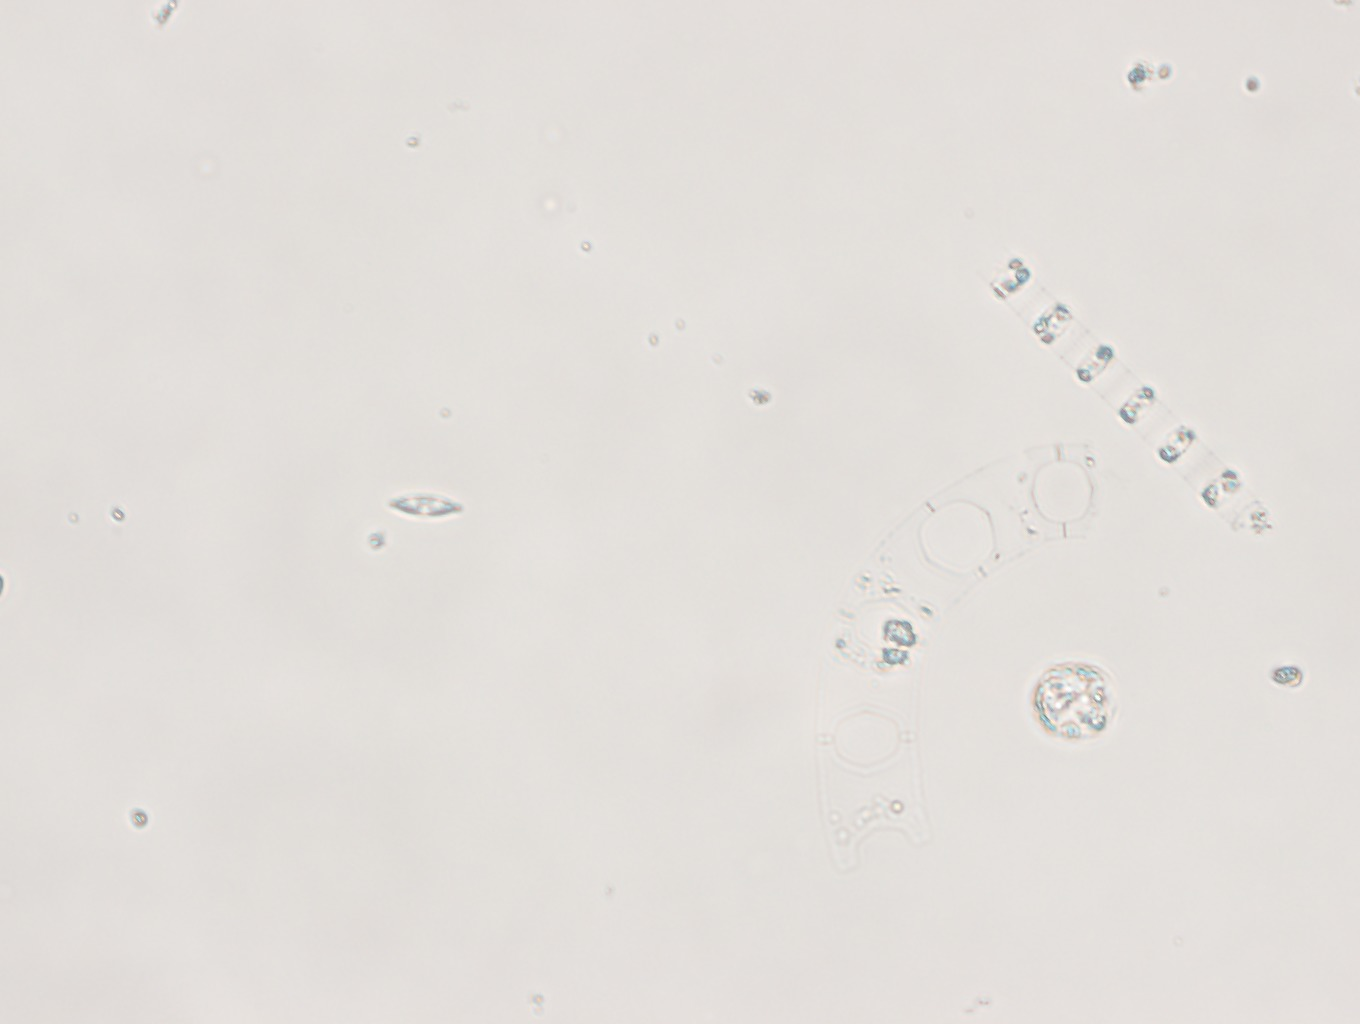eucampia: (791, 424, 1108, 892)
navicula: (385, 484, 470, 528)
skeletonema: (979, 236, 1270, 546)
